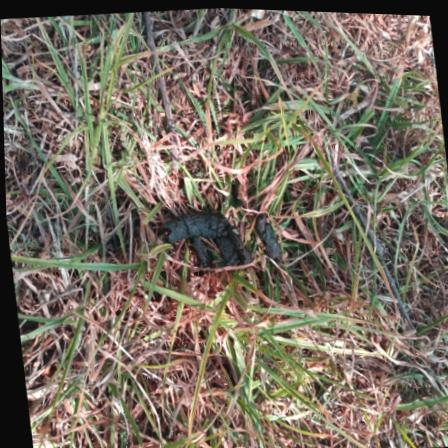dog-poop: (149, 203, 246, 277), (250, 208, 287, 264)
